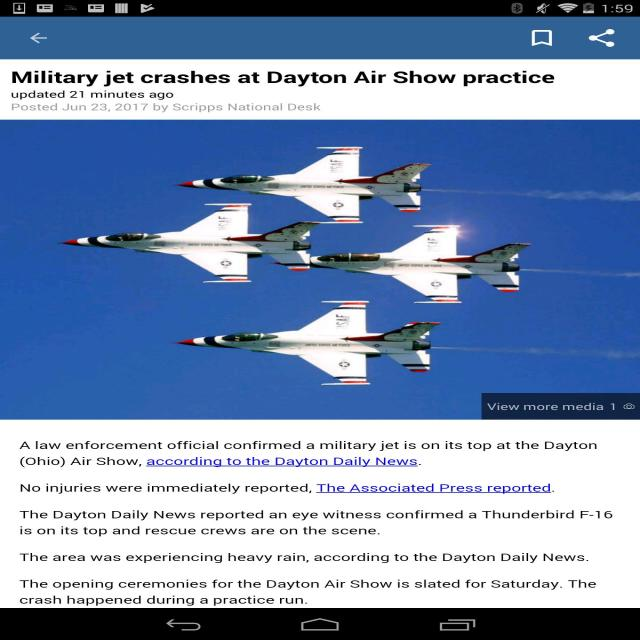button: (478, 394, 638, 420), (584, 23, 620, 52), (528, 26, 557, 51), (24, 28, 55, 50)
heading: (7, 66, 560, 88)
image: (1, 120, 640, 419)
link: (142, 453, 424, 471), (314, 481, 556, 495)
text: (12, 437, 618, 608), (8, 92, 327, 115)
